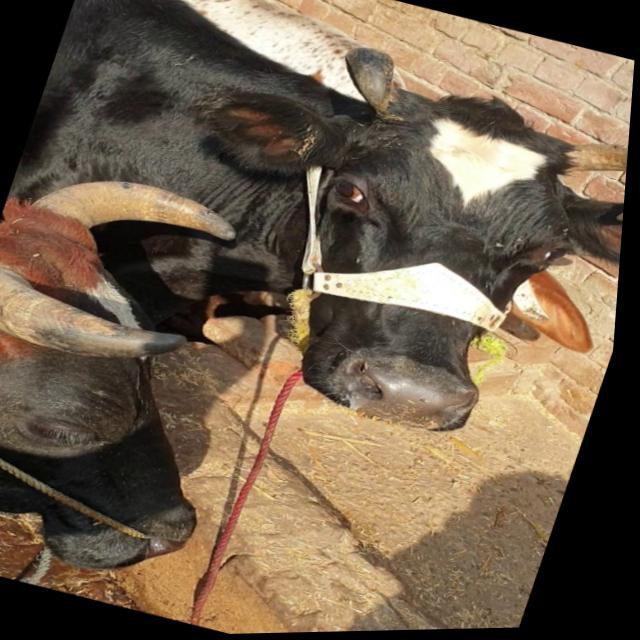cowFace: (221, 50, 636, 477), (0, 160, 311, 613)
